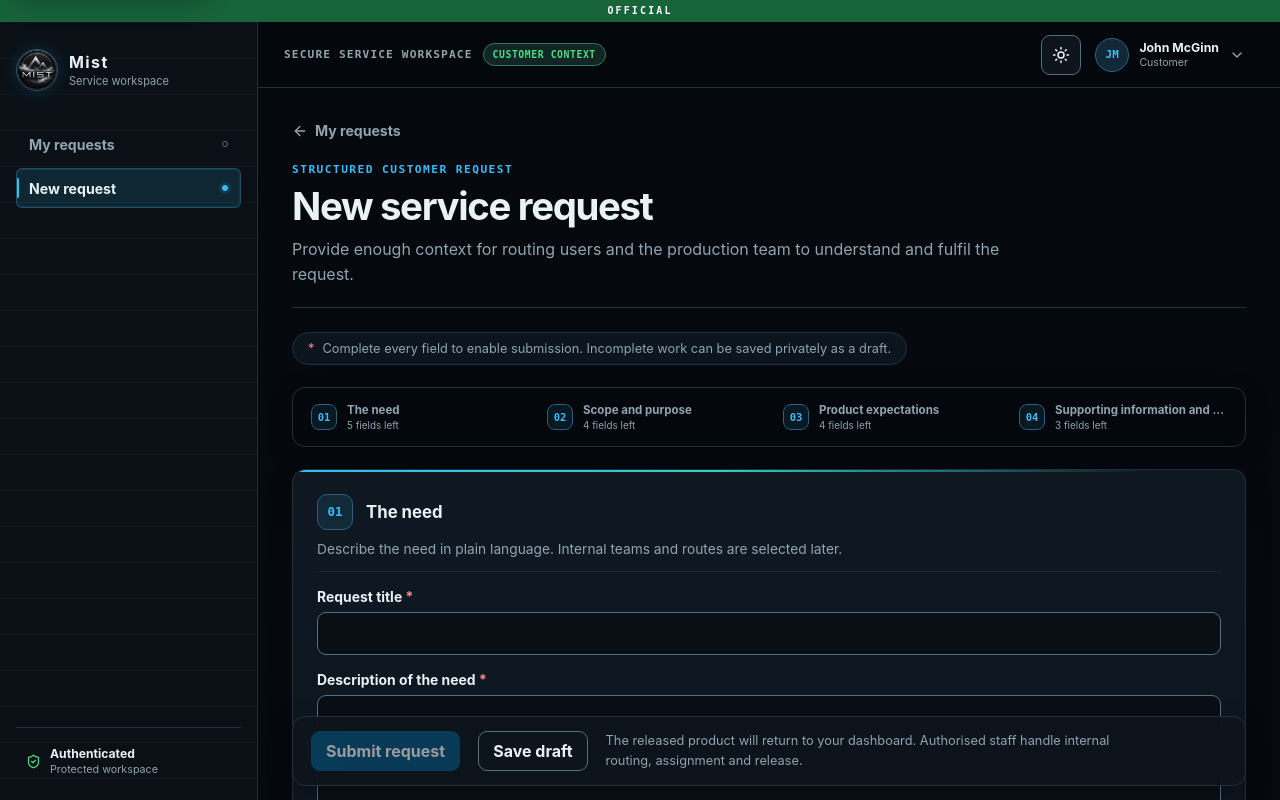
Test: private Customer drafts › saves an incomplete new draft and deletes it
This screenshot has width=1280, height=800.
Expected: the heading "New service request" is shown, [292,183,652,229]
Click the button "Save draft".
click(533, 751)  # box [478,731,588,771]
(page scrolled)
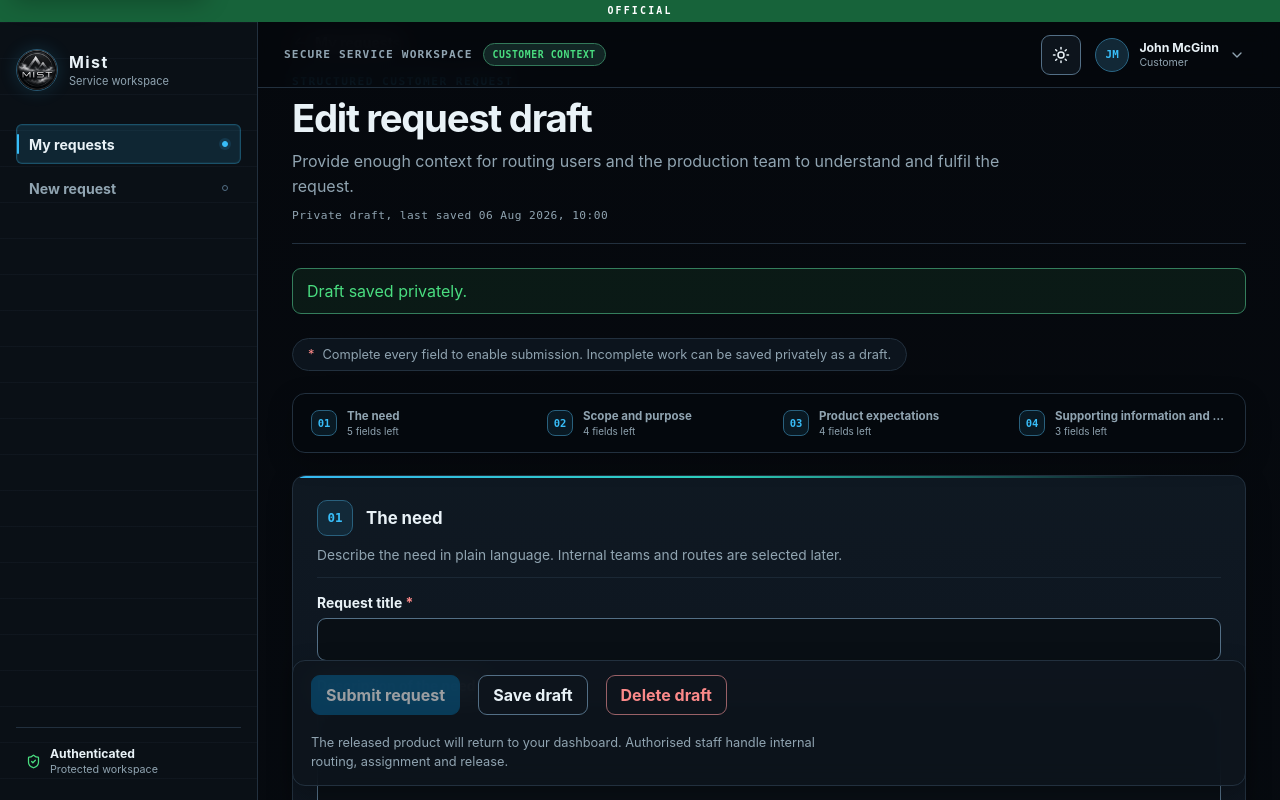
Now the text "Draft saved privately." is shown, box [292,268,1246,314]
Now the heading "Edit request draft" is shown, box [292,95,592,141]
Click the button "Delete draft".
click(666, 695)  # box [606,675,727,715]
(page scrolled)
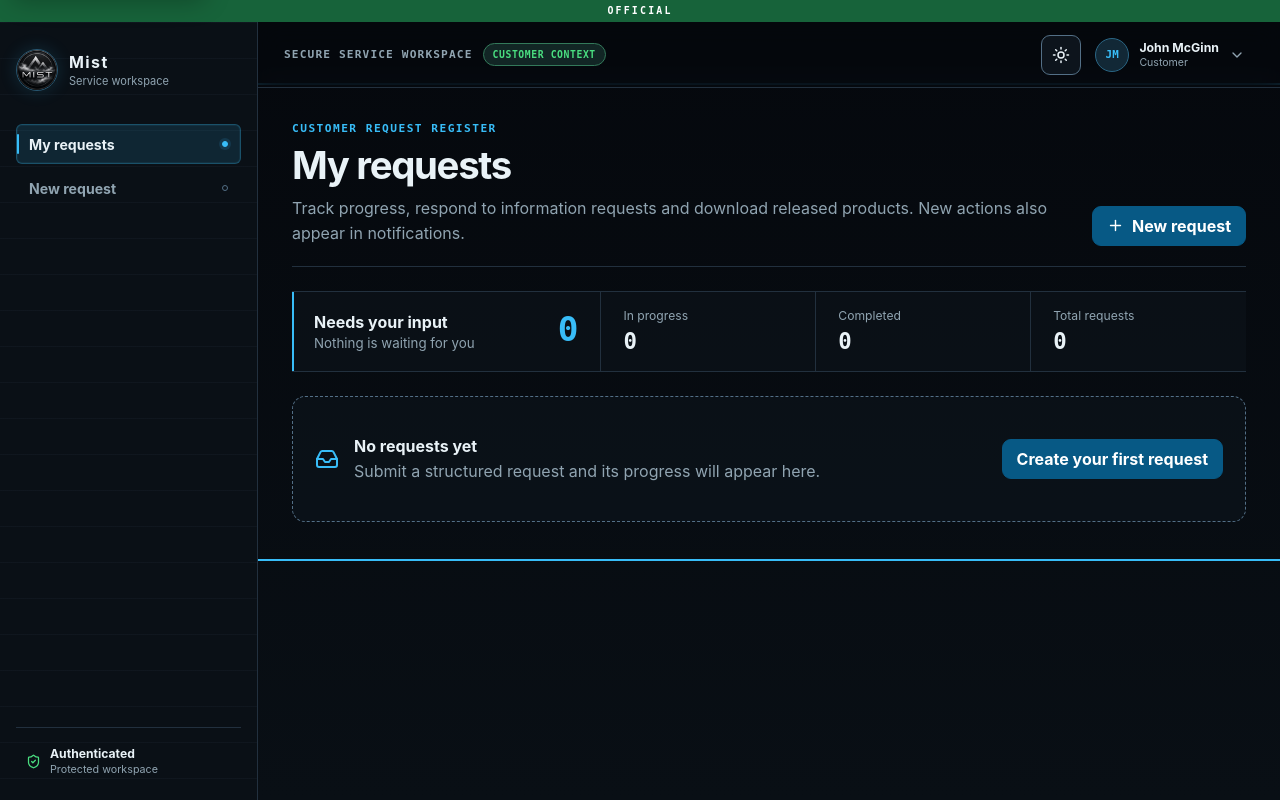
Now the heading "My requests" is shown, box [292,142,511,188]
